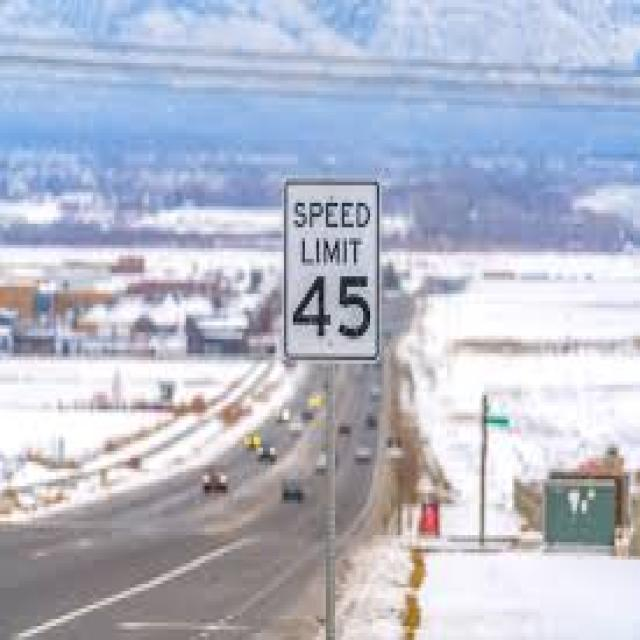speedLimit45: (281, 179, 381, 364)
